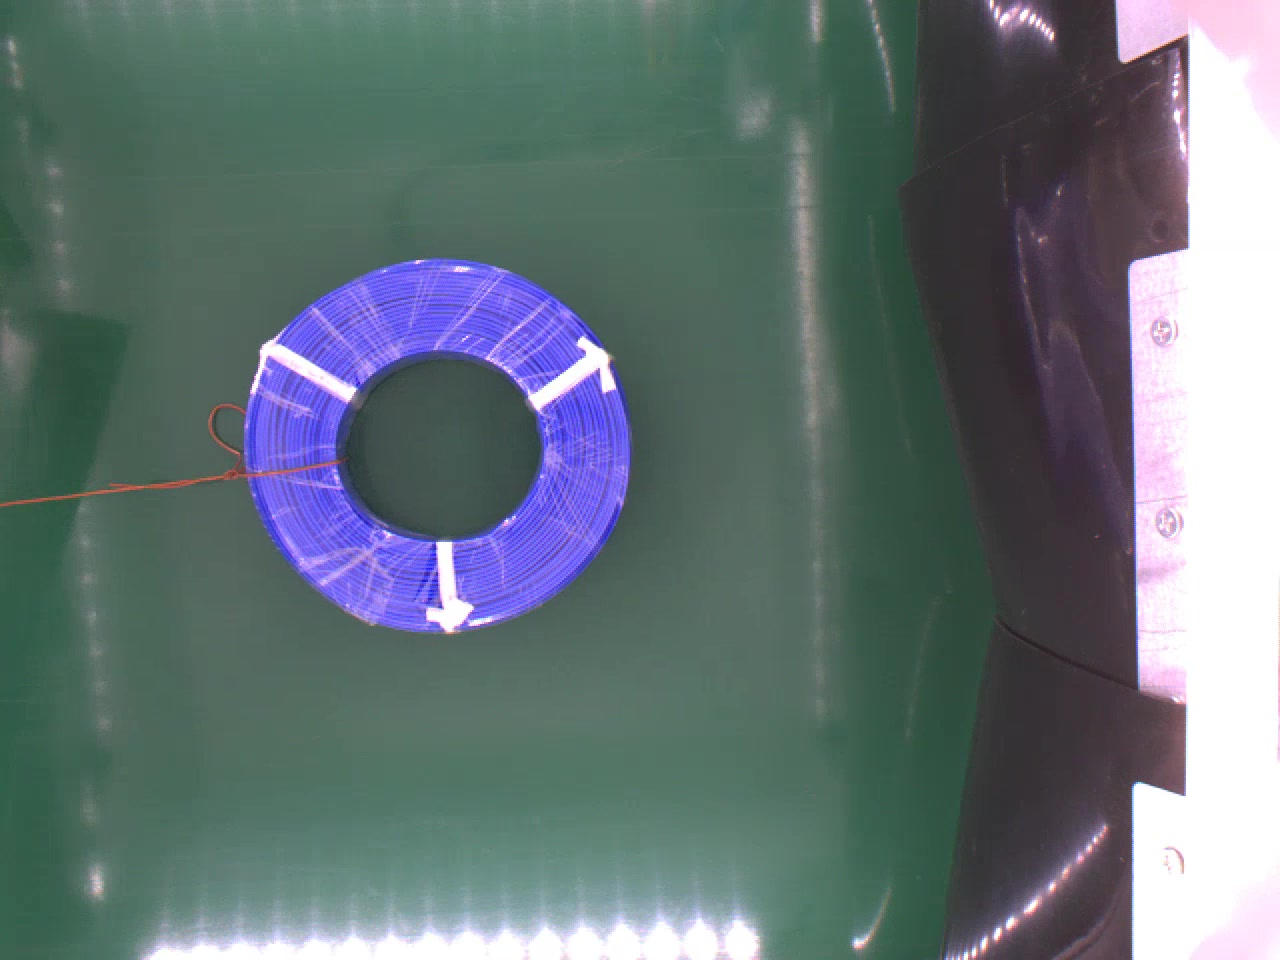blue: (240, 253, 635, 633)
